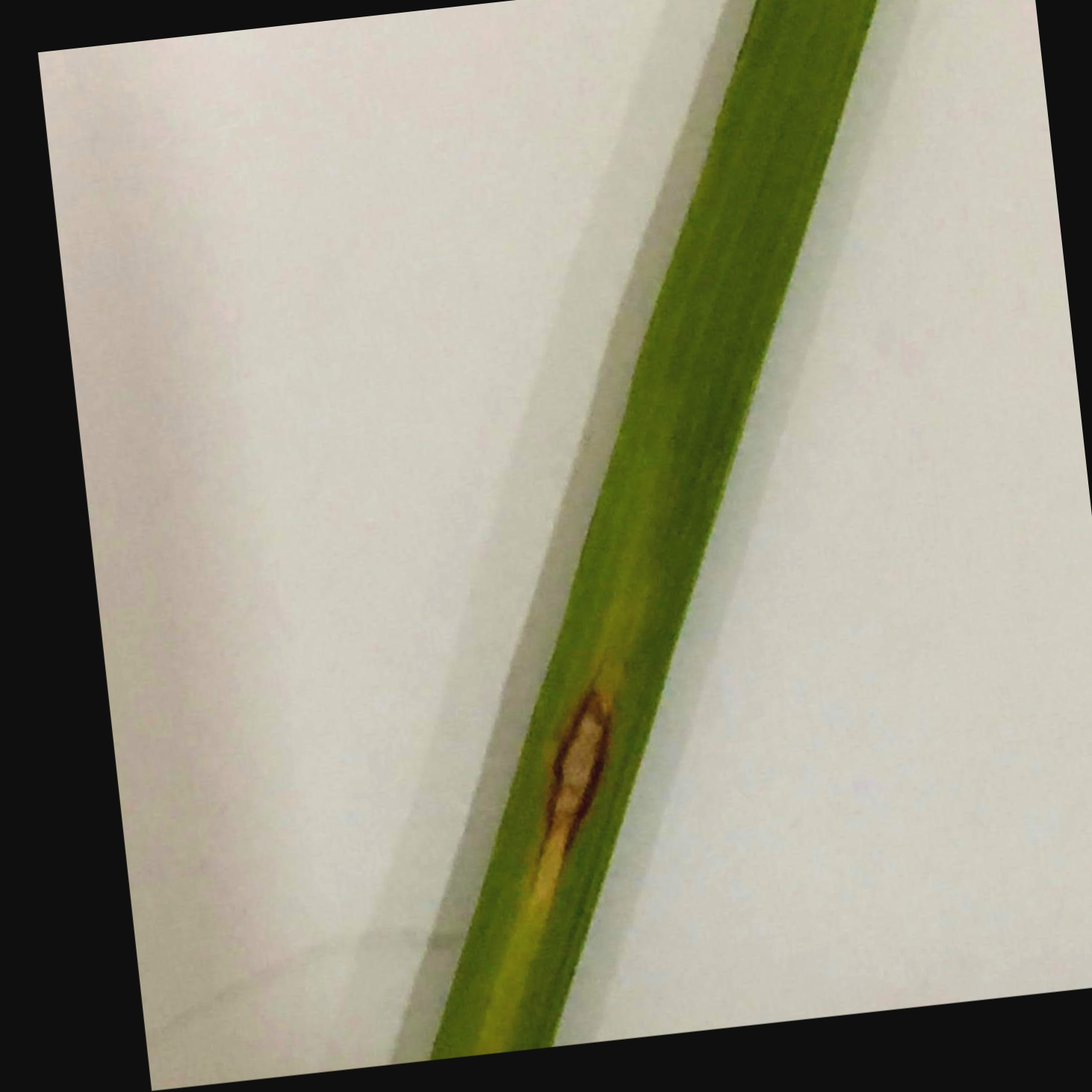Brown_Spot: (518, 675, 633, 861)
